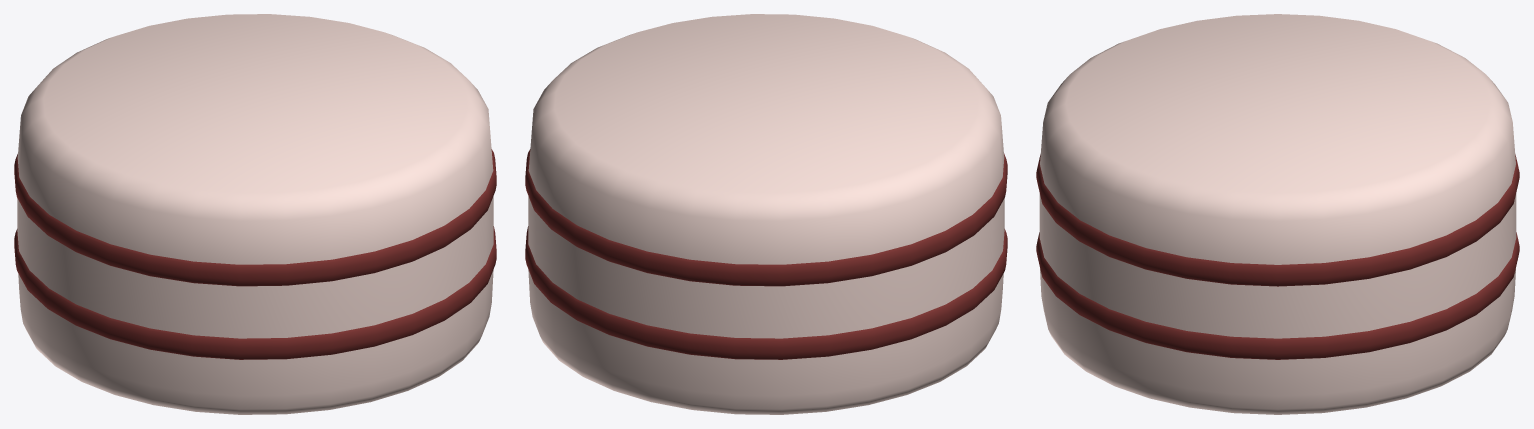
Rendered from Simple cherry .fbx.
The picture shows the model from 3 angles, left to right: view 1: azimuth 30°, elevation 25°; view 2: azimuth 150°, elevation 25°; view 3: azimuth 270°, elevation 25°; orthographic projection.
Visible parts, largest first — view 1: Simple cherry cake; view 2: Simple cherry cake; view 3: Simple cherry cake.
Boxes of the visible parts, x1,y1,x2,y2 form: Simple cherry cake: (14,14,496,414); Simple cherry cake: (525,14,1007,414); Simple cherry cake: (1036,14,1519,414).
Bounding box in the file's own units: 165 × 80.69 × 165.
